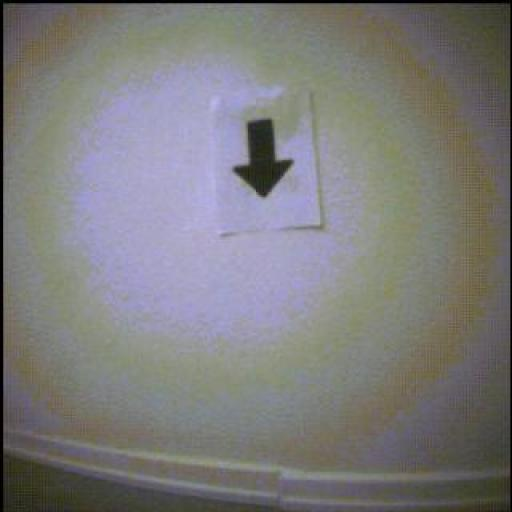Arrow: (235, 119, 294, 198)
